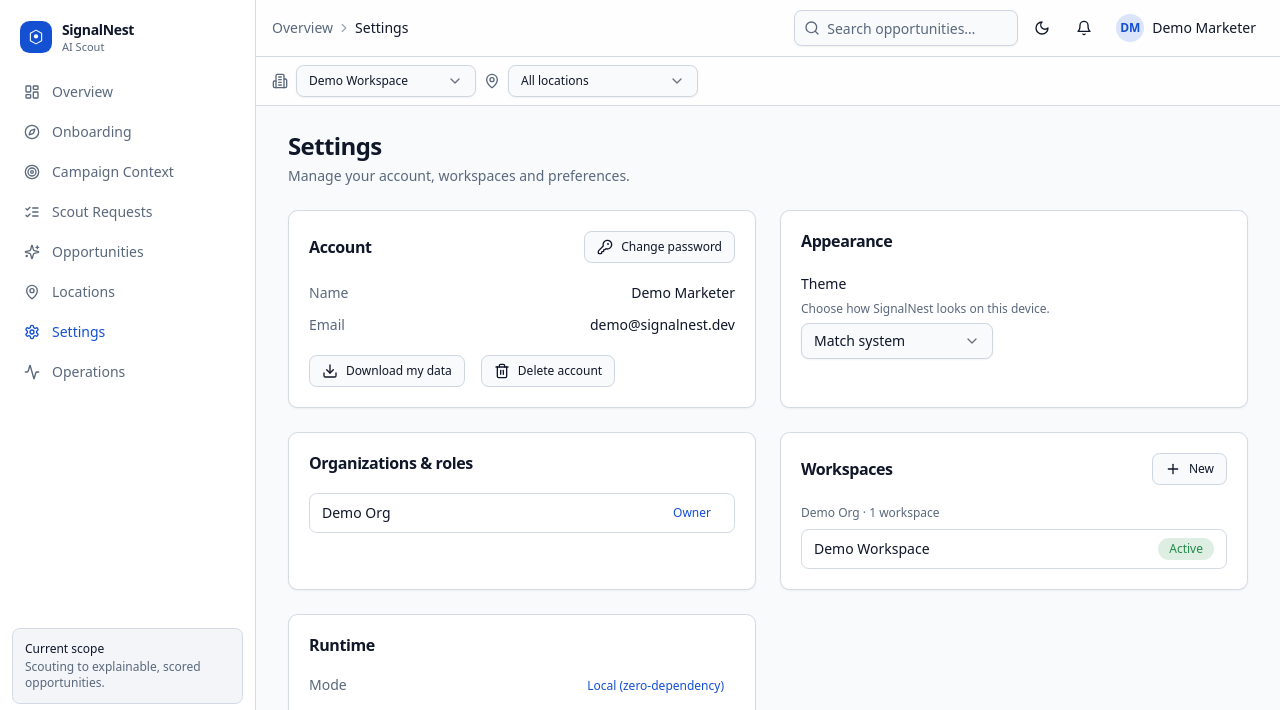
account deletion › a sole owner is told why and cannot submit
Click the button "Delete account": [548, 371] box x1=481 y1=355 x2=615 y2=387
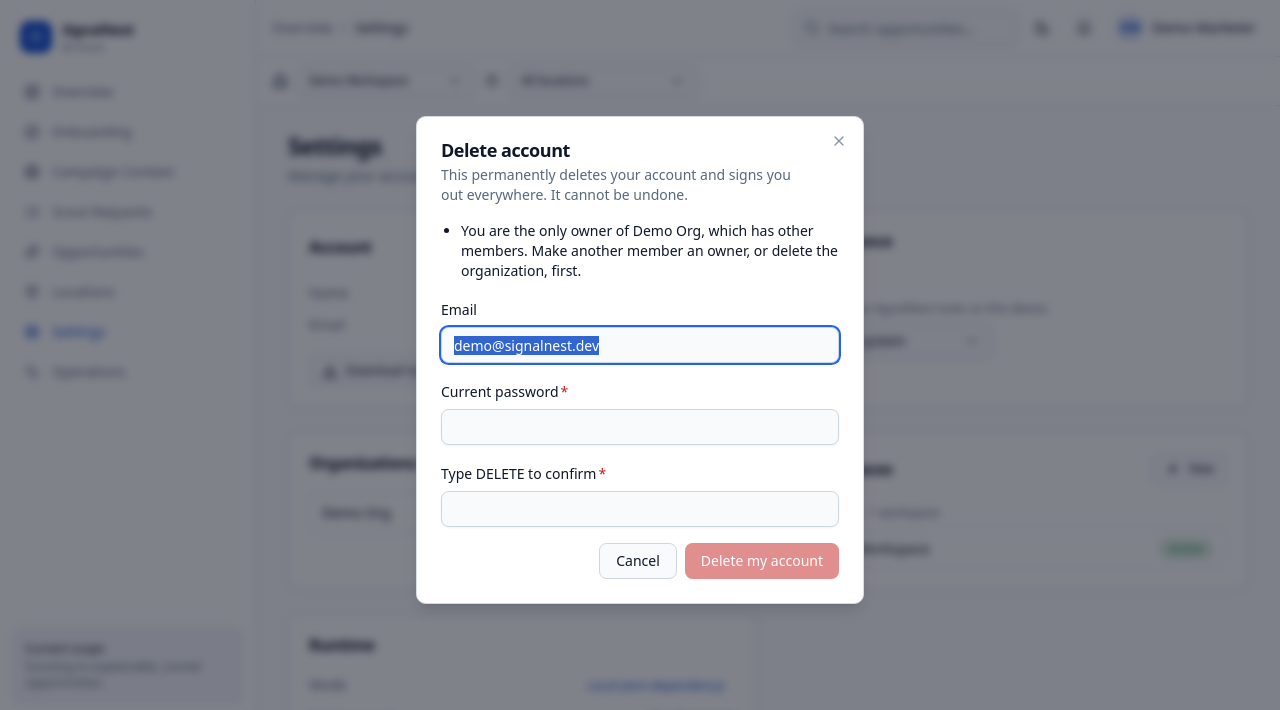
Result: the list item "You are the only owner of Demo Org, which has other members" is shown at x1=461 y1=221 x2=838 y2=280
Result: the button "Delete my account" is disabled at x1=685 y1=543 x2=839 y2=579
